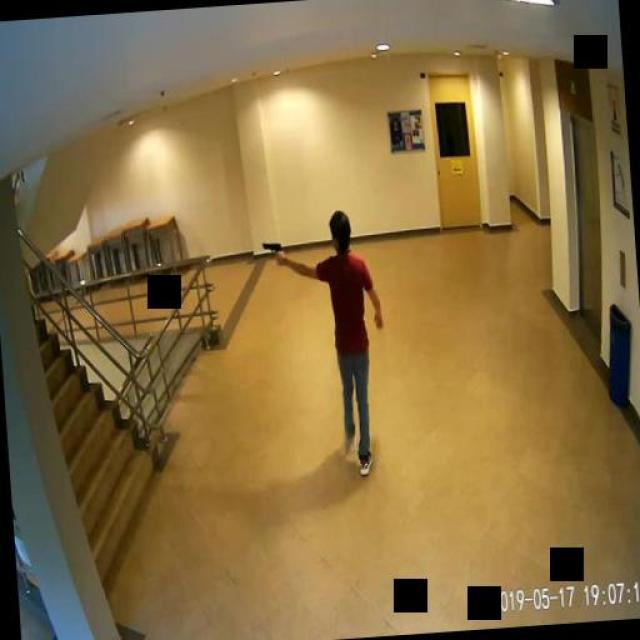gun: (262, 238, 282, 264)
